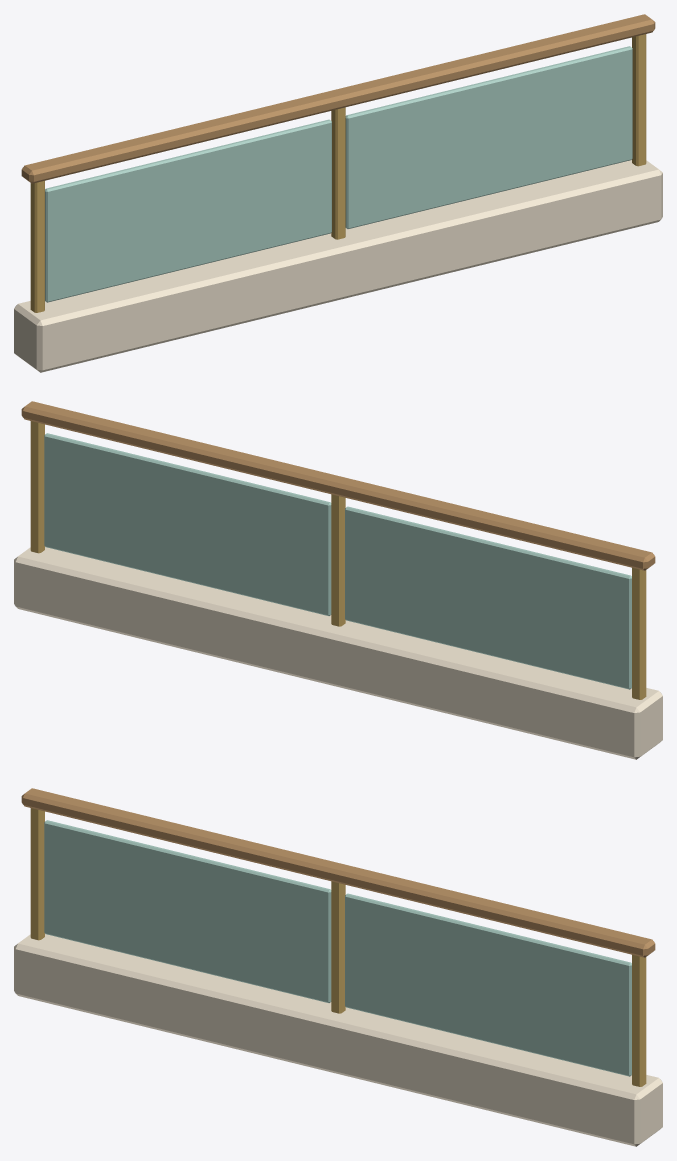
Rendered from rooftop-railing.glb.
3 views of the same model, one above another, from view 1: azimuth 30°, elevation 25°; view 2: azimuth 150°, elevation 25°; view 3: azimuth 330°, elevation 25° (orthographic).
Visible parts, largest first — view 1: rooftop-railing / Glazing.001, rooftop-railing / Cream plaster.001, rooftop-railing / Teak.001, rooftop-railing / Brass.003; view 2: rooftop-railing / Glazing.001, rooftop-railing / Cream plaster.001, rooftop-railing / Teak.001, rooftop-railing / Brass.003; view 3: rooftop-railing / Glazing.001, rooftop-railing / Cream plaster.001, rooftop-railing / Teak.001, rooftop-railing / Brass.003.
Part boxes in pixels (bbox=[...]): rooftop-railing / Glazing.001: bbox=[45, 46, 632, 302]; rooftop-railing / Cream plaster.001: bbox=[14, 160, 662, 372]; rooftop-railing / Teak.001: bbox=[21, 14, 655, 183]; rooftop-railing / Brass.003: bbox=[30, 34, 646, 312]; rooftop-railing / Glazing.001: bbox=[44, 433, 631, 689]; rooftop-railing / Cream plaster.001: bbox=[14, 547, 662, 759]; rooftop-railing / Teak.001: bbox=[21, 401, 655, 570]; rooftop-railing / Brass.003: bbox=[30, 421, 646, 699]; rooftop-railing / Glazing.001: bbox=[44, 820, 631, 1076]; rooftop-railing / Cream plaster.001: bbox=[14, 934, 662, 1146]; rooftop-railing / Teak.001: bbox=[21, 788, 655, 957]; rooftop-railing / Brass.003: bbox=[30, 808, 646, 1086].
Size of the model in its own units: 4 by 1.2 by 0.3.
